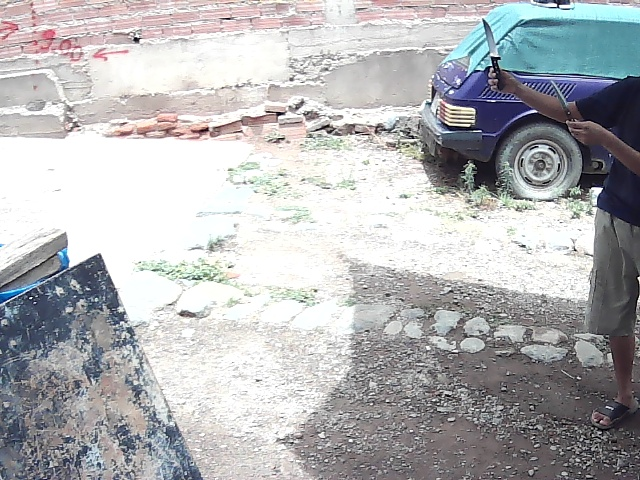cuchillo: (477, 11, 509, 91), (547, 77, 578, 124)
